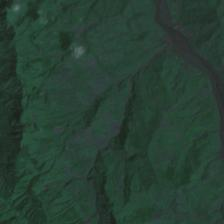landslides: (125, 182, 133, 202), (98, 203, 110, 214), (90, 200, 99, 214), (42, 182, 53, 192)
